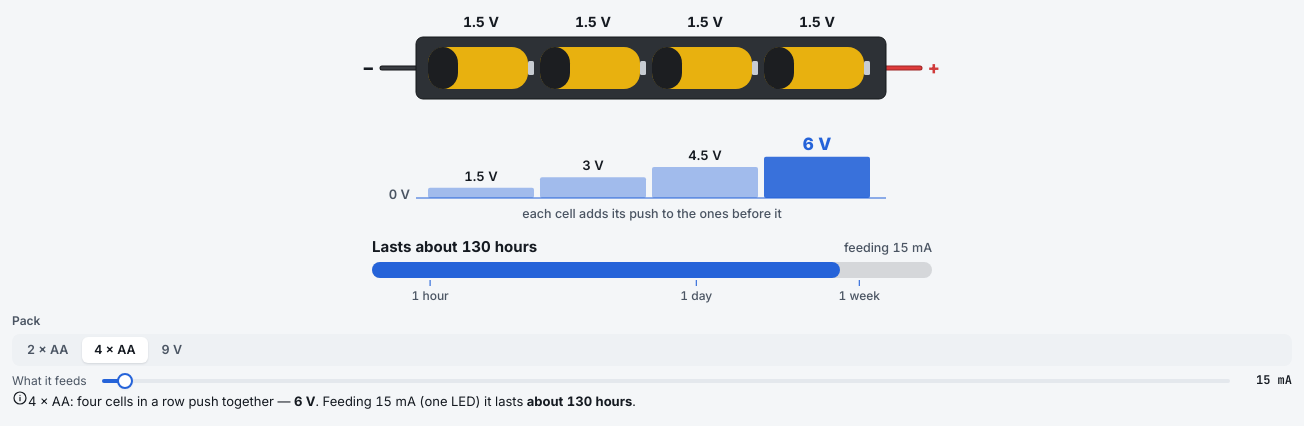
Test case: the battery pack, opened › the smallest load: 5 mA, less than one LED takes — the longest life
Press Home in the slider named "What it feeds", box [117, 373, 133, 389]
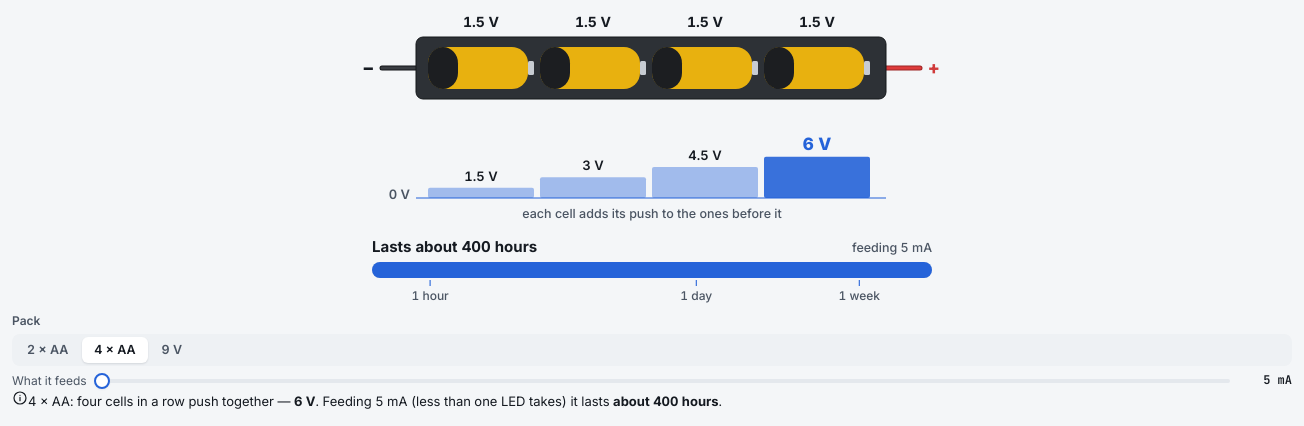
Result: the text "about 400 hours" is shown at [415, 237, 537, 256]
Click the radio button labelled "9 V" at (172, 350), box [150, 337, 194, 363]
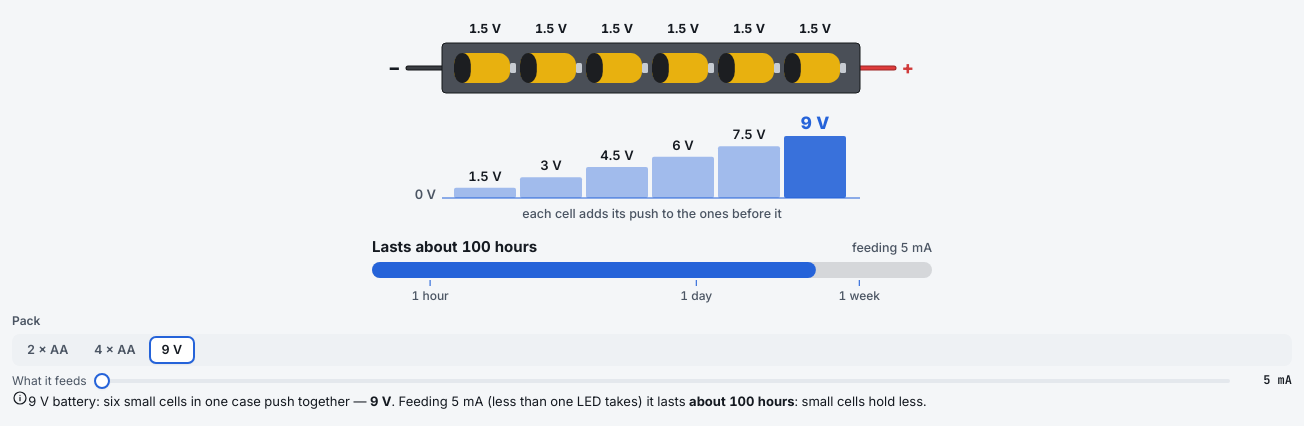
Result: the text "about 100 hours" is shown at [415, 237, 537, 256]
